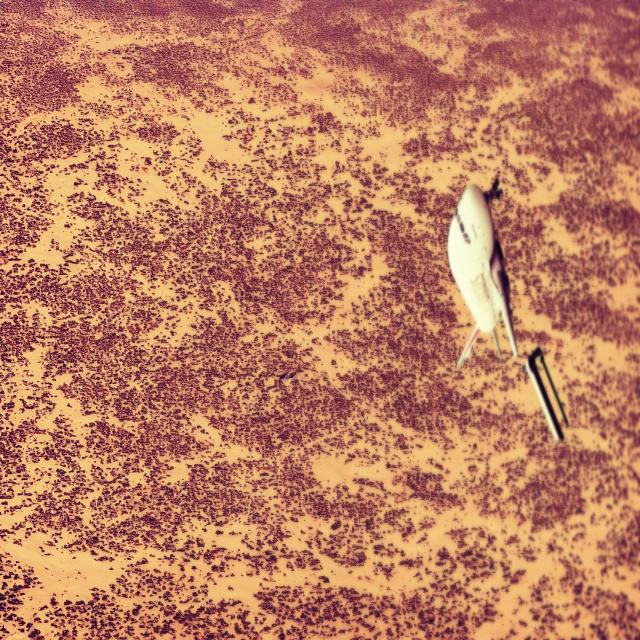airplane: (446, 177, 569, 441)
